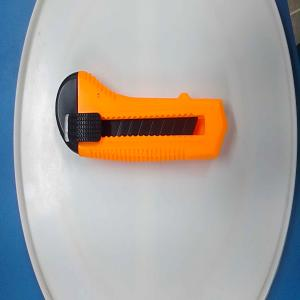estilete: (55, 69, 228, 163)
